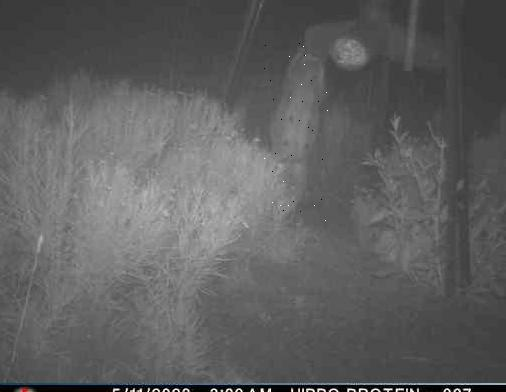Raccoon: (265, 44, 332, 223)
